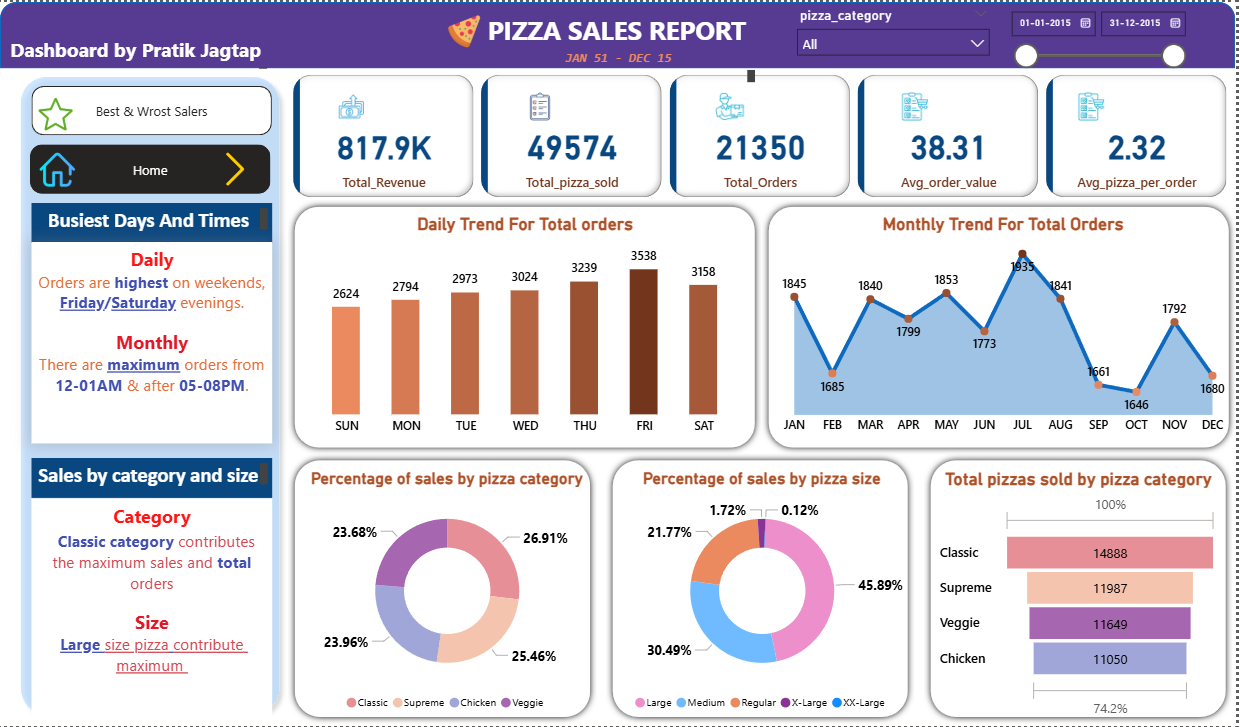

The dashboard page shown, as its layout file describes it:
{"tool":"powerbi","page":{"name":"Home","canvas":[1280,750],"ordinal":0},"visuals":[{"type":"shape","box":[0,0,1279.6,69],"z":0},{"type":"shape","box":[12.2,68.5,286,678.5],"z":1000},{"type":"cardVisual","fields":{"Data":["pizza_sales.Total_Revenue","pizza_sales.Total_pizza_sold","pizza_sales.Total_Orders","pizza_sales.Avg_order_value","pizza_sales.Avg_pizza_per_order"]},"box":[298.3,69.7,981.2,137.8],"z":2000},{"type":"textbox","title":"PIZZA SALES REPORT","box":[493.3,10.6,293,38.5],"z":3000},{"type":"textbox","title":"JAN 51 - DEC 15","box":[494.6,49.1,293,38.5],"z":4000},{"type":"image","box":[457.5,8,47.7,45.1],"z":5000},{"type":"shape","box":[298.3,204.4,490.6,263.5],"z":6000},{"type":"columnChart","title":"Daily Trend For Total orders","fields":{"Y":["pizza_sales.Total_Orders"],"Category":["pizza_sales.order_Day"]},"box":[313.4,219.6,460.3,237.7],"z":7000},{"type":"shape","box":[788.9,204.4,490.6,263.5],"z":8000},{"type":"shape","box":[956.9,467,319.5,279.9],"z":9000},{"type":"shape","box":[298.2,467,320,280],"z":10000},{"type":"areaChart","title":"Monthly Trend For Total Orders","fields":{"Category":["pizza_sales.order_month"],"Y":["pizza_sales.Total_Orders"]},"box":[801.7,219.1,474.6,237.3],"z":11000},{"type":"shape","box":[628.3,467,319.5,279.9],"z":12000},{"type":"donutChart","title":"Percentage of sales by pizza category","fields":{"Y":["pizza_sales.Total_Revenue"],"Category":["pizza_sales.pizza_category"]},"box":[313.4,483.8,298.2,260.1],"z":13000},{"type":"donutChart","title":"Percentage of  sales by pizza size","fields":{"Y":["pizza_sales.Total_Revenue"],"Category":["pizza_sales.pizza_size"]},"box":[640.5,483.8,298.2,260.1],"z":14000},{"type":"funnel","title":"Total pizzas sold by pizza category","fields":{"Category":["pizza_sales.pizza_category"],"Y":["pizza_sales.Total_pizza_sold"]},"box":[967.5,483.8,298.2,263.2],"z":15000},{"type":"textbox","box":[31.9,208.4,249.5,41.1],"z":16000},{"type":"textbox","box":[31.9,248,249.5,208.4],"z":17000},{"type":"textbox","box":[31.9,473.1,249.5,41.1],"z":18000},{"type":"textbox","box":[31.9,514.2,249.5,229.7],"z":19000},{"type":"slicer","fields":{"Values":["pizza_sales.pizza_category"]},"box":[815.4,0,219.1,68.5],"z":20000},{"type":"slicer","fields":{"Values":["pizza_sales.order_date"]},"box":[1034.5,0,202.3,70],"z":21000},{"type":"pageNavigator","box":[31.9,86.7,249.5,51.7],"z":22000},{"type":"pageNavigator","box":[30.4,147.6,249.5,51.7],"z":23000},{"type":"image","box":[220.6,136.9,45.6,73],"z":24000},{"type":"image","box":[31.9,92.8,50.2,45.6],"z":25000},{"type":"image","box":[35,146,47.2,54.8],"z":26000},{"type":"textbox","title":"Dashboard by Pratik Jagtap","box":[0,35,281.4,38],"z":27000}]}

Visuals, with their boxes in screenshot pixels (x1, y1, x2, y2), scaled from the page's 1280x750 canvas onto the 1240x727 screenshot:
shape: bbox(0, 0, 1239, 67)
shape: bbox(12, 66, 289, 724)
cardVisual - pizza_sales.Total_Revenue x pizza_sales.Total_pizza_sold: bbox(289, 68, 1239, 201)
"PIZZA SALES REPORT" textbox: bbox(478, 10, 762, 48)
"JAN 51 - DEC 15" textbox: bbox(479, 48, 763, 85)
image: bbox(443, 8, 489, 51)
shape: bbox(289, 198, 764, 454)
"Daily Trend For Total orders" columnChart: bbox(304, 213, 750, 443)
shape: bbox(764, 198, 1239, 454)
shape: bbox(927, 453, 1237, 724)
shape: bbox(289, 453, 599, 724)
"Monthly Trend For Total Orders" areaChart: bbox(777, 212, 1236, 442)
shape: bbox(609, 453, 918, 724)
"Percentage of sales by pizza category" donutChart: bbox(304, 469, 592, 721)
"Percentage of  sales by pizza size" donutChart: bbox(620, 469, 909, 721)
"Total pizzas sold by pizza category" funnel: bbox(937, 469, 1226, 724)
textbox: bbox(31, 202, 273, 242)
textbox: bbox(31, 240, 273, 442)
textbox: bbox(31, 459, 273, 498)
textbox: bbox(31, 498, 273, 721)
slicer - pizza_sales.pizza_category: bbox(790, 0, 1002, 66)
slicer - pizza_sales.order_date: bbox(1002, 0, 1198, 68)
pageNavigator: bbox(31, 84, 273, 134)
pageNavigator: bbox(29, 143, 271, 193)
image: bbox(214, 133, 258, 203)
image: bbox(31, 90, 80, 134)
image: bbox(34, 142, 80, 195)
"Dashboard by Pratik Jagtap" textbox: bbox(0, 34, 273, 71)
